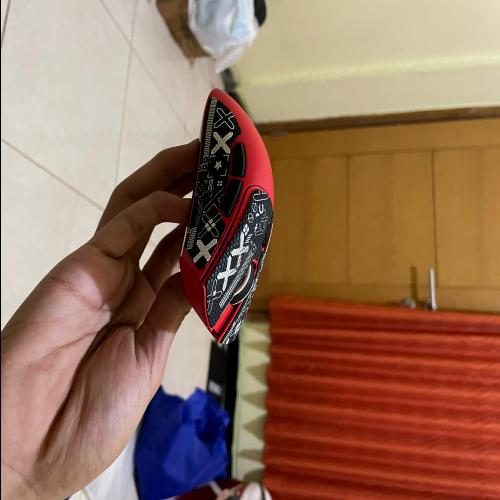mouse: (174, 64, 288, 361)
